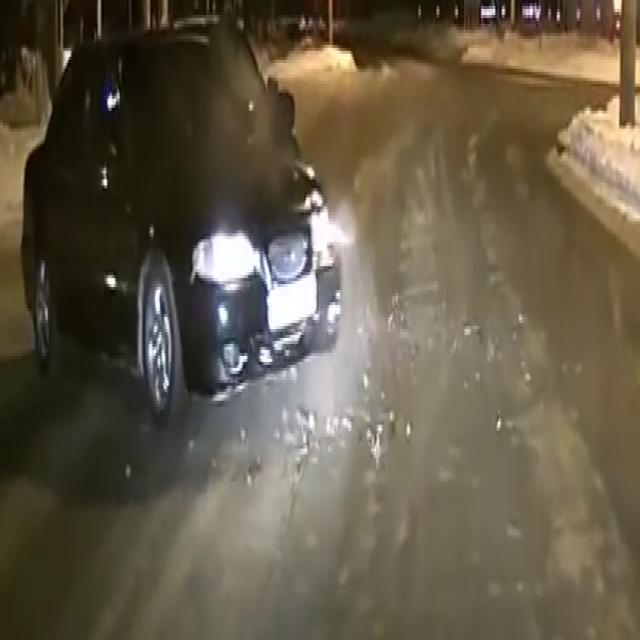accident: (35, 72, 358, 482)
